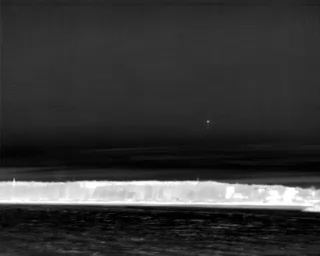HELICOPTER: (204, 117, 212, 128)
